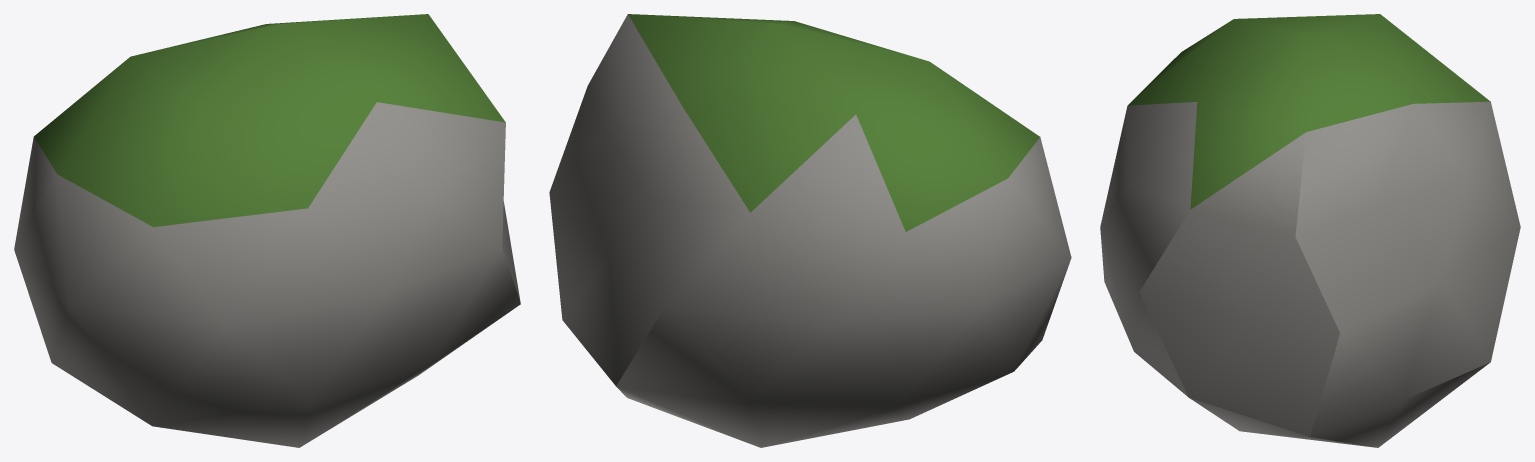
Rendered from boulder_d_lod1.glb.
3 renders of one model, left to right at view 1: azimuth 30°, elevation 25°; view 2: azimuth 150°, elevation 25°; view 3: azimuth 270°, elevation 25°, orthographic. The views are drawn at different scales.
Visible parts, largest first — view 1: boulder_d_lod1; view 2: boulder_d_lod1; view 3: boulder_d_lod1.
Boxes of the visible parts, <box> form: boulder_d_lod1: <box>14,14,520,447</box>; boulder_d_lod1: <box>549,14,1071,447</box>; boulder_d_lod1: <box>1100,14,1520,447</box>.
Size of the model in its own units: 3.44 by 2.79 by 2.78.
